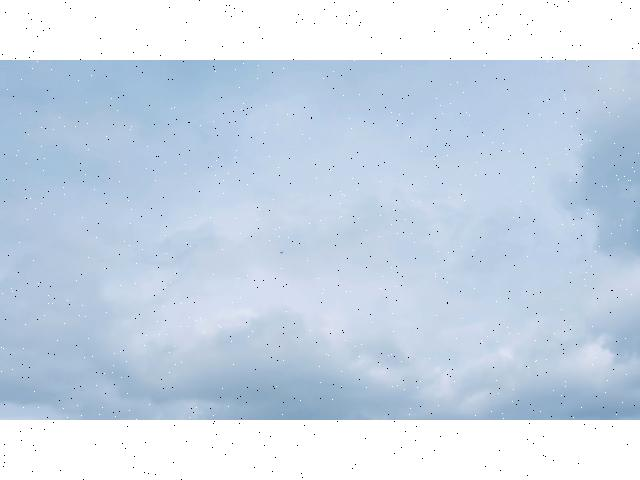Anti-Drone: (278, 250, 286, 256)
